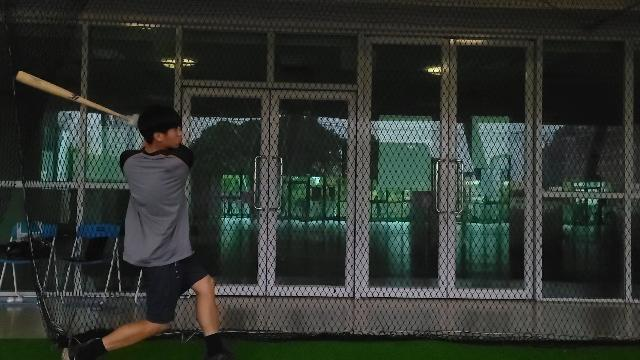baseball bat: (15, 69, 124, 119)
